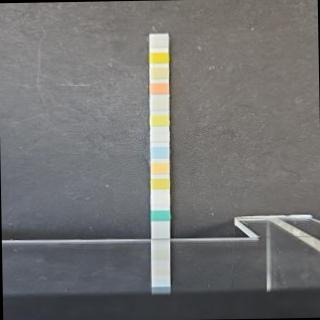mark: (150, 112, 168, 126), (151, 144, 168, 158), (148, 51, 166, 64), (149, 34, 166, 47), (151, 195, 169, 207), (151, 177, 169, 189), (150, 162, 168, 174), (150, 130, 168, 142), (150, 98, 167, 110), (149, 82, 166, 94), (150, 67, 167, 79), (152, 210, 170, 220)
